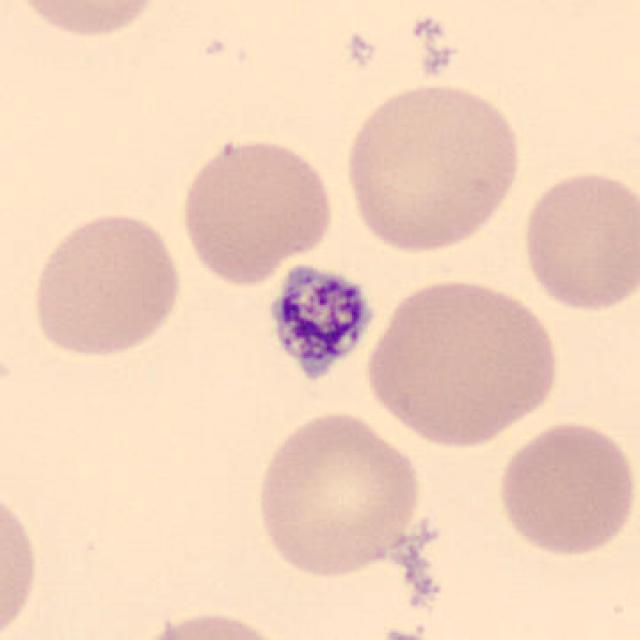Platelets: (261, 259, 377, 386)
RBC: (359, 273, 564, 450), (340, 79, 526, 256), (249, 407, 427, 580), (25, 206, 187, 360), (176, 134, 338, 287), (492, 416, 636, 561), (516, 166, 638, 316), (0, 483, 44, 640), (9, 0, 165, 41), (123, 608, 297, 640)
